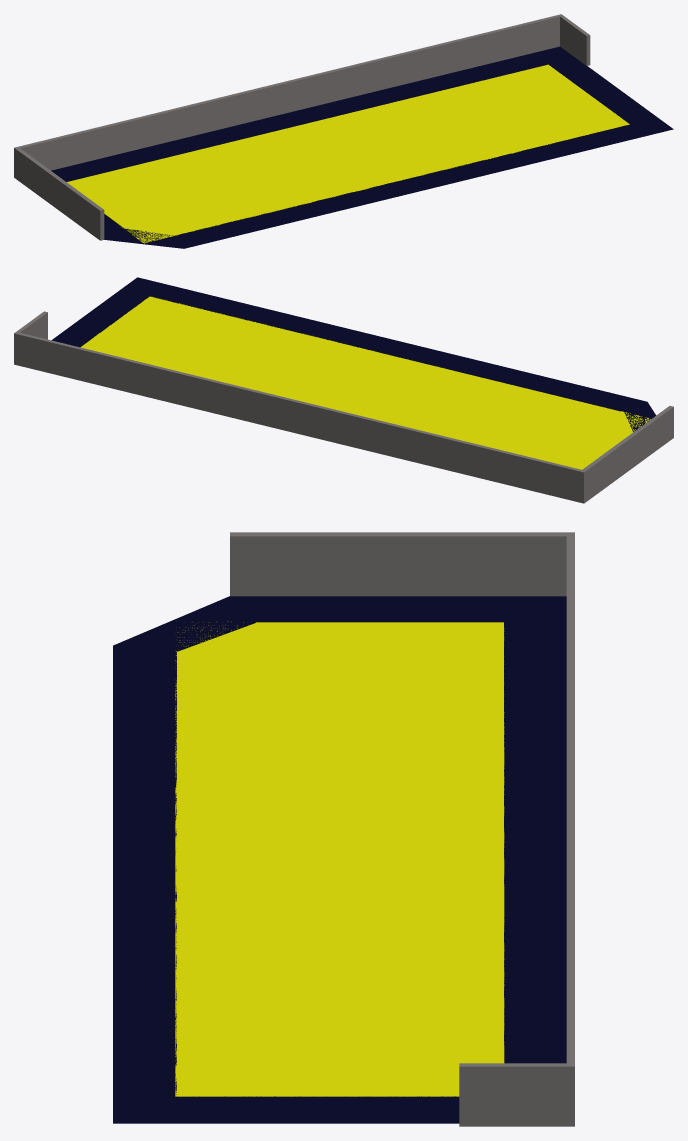
File: factory_model_colored.gltf
3 views of the same model, one above another, from view 1: azimuth 30°, elevation 25°; view 2: azimuth 150°, elevation 25°; view 3: azimuth 270°, elevation 25° (orthographic). The views are drawn at different scales.
Parts seen in each view (by area): view 1: Plane, Walls C, Floor C; view 2: Plane, Walls C, Floor C; view 3: Plane, Floor C, Walls C.
Part boxes in pixels (box(x1,y1,x2,y2)): Plane: box(67, 64, 629, 243); Walls C: box(14, 14, 590, 240); Floor C: box(51, 46, 673, 248); Plane: box(80, 296, 650, 469); Walls C: box(14, 311, 673, 503); Floor C: box(52, 277, 655, 431); Plane: box(175, 621, 504, 1096); Floor C: box(113, 596, 566, 1123); Walls C: box(230, 532, 574, 1126).
Bounding box in the file's own units: 12.31 × 0.643 × 4.5.
